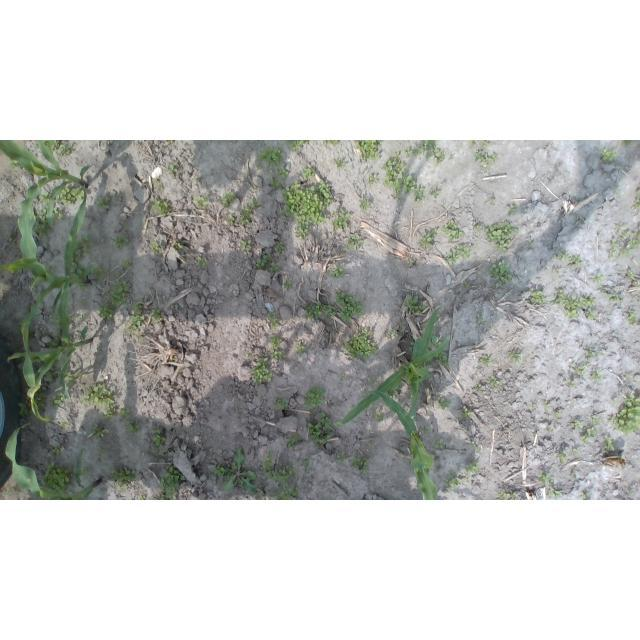Maize: (0, 184, 94, 421), (333, 306, 452, 427), (9, 280, 94, 425), (1, 140, 90, 265), (367, 388, 440, 501), (6, 423, 102, 500)
Weeds: (282, 180, 334, 227), (213, 446, 257, 492), (80, 383, 115, 422), (610, 394, 640, 437), (344, 327, 378, 361), (381, 151, 404, 197), (40, 462, 73, 494), (485, 221, 519, 252), (158, 465, 187, 500), (71, 237, 95, 278), (336, 291, 365, 324), (306, 412, 334, 446), (552, 289, 581, 319), (124, 304, 146, 341), (416, 140, 445, 165), (238, 197, 263, 226), (304, 300, 337, 320), (488, 261, 512, 288), (354, 140, 383, 162), (106, 281, 130, 307), (257, 146, 283, 170), (250, 357, 272, 385), (33, 206, 50, 242), (109, 469, 136, 491), (443, 244, 471, 265), (56, 185, 85, 205), (265, 466, 295, 485), (441, 220, 464, 243), (475, 150, 498, 173), (304, 387, 326, 410), (150, 428, 167, 456), (404, 293, 426, 314), (620, 234, 640, 257), (270, 336, 287, 361), (350, 454, 370, 475), (275, 484, 300, 500), (419, 228, 437, 248), (333, 208, 351, 228), (446, 471, 463, 492), (34, 389, 48, 413), (401, 170, 415, 194), (528, 287, 546, 305), (345, 235, 363, 252), (17, 400, 33, 418), (152, 198, 168, 216), (602, 289, 622, 303), (220, 190, 236, 207), (98, 304, 114, 320), (51, 392, 66, 408), (608, 238, 620, 258), (256, 253, 271, 269), (436, 394, 451, 410), (284, 140, 304, 152), (95, 194, 109, 211), (115, 236, 129, 253), (94, 268, 109, 283), (615, 224, 629, 240), (287, 435, 304, 448), (581, 295, 598, 308), (272, 397, 289, 410), (124, 422, 138, 437), (90, 423, 104, 438), (581, 429, 595, 444), (428, 335, 442, 350), (120, 406, 133, 422), (603, 435, 616, 451), (601, 148, 617, 161), (435, 351, 448, 367), (50, 332, 63, 348), (414, 186, 426, 203), (465, 462, 479, 476), (508, 350, 522, 364), (459, 405, 472, 420), (268, 312, 279, 329), (56, 144, 70, 157), (584, 308, 598, 321), (66, 371, 79, 385), (585, 349, 596, 365), (264, 451, 273, 470), (570, 255, 583, 268), (296, 227, 309, 240), (300, 455, 312, 469), (195, 195, 209, 207), (331, 266, 345, 278), (496, 492, 516, 500), (38, 192, 50, 205), (195, 256, 208, 268), (166, 163, 179, 175), (304, 168, 316, 181), (7, 156, 18, 170), (547, 489, 561, 500), (592, 368, 603, 382), (359, 197, 369, 212), (506, 204, 518, 216), (268, 176, 280, 188), (53, 208, 64, 221), (151, 309, 162, 322), (255, 488, 266, 501), (575, 365, 586, 378), (489, 376, 500, 389), (554, 251, 568, 261), (627, 310, 637, 324), (388, 326, 405, 334), (45, 141, 60, 150), (539, 475, 551, 486), (77, 280, 88, 292), (471, 441, 482, 453), (278, 166, 288, 179), (121, 257, 132, 268), (335, 158, 346, 169), (590, 415, 601, 426), (7, 233, 17, 245), (594, 273, 605, 283), (60, 419, 71, 429), (294, 343, 304, 354), (337, 454, 347, 465), (241, 241, 252, 251), (368, 174, 378, 185), (153, 178, 163, 189), (47, 371, 57, 382), (581, 491, 593, 500), (269, 263, 281, 272), (480, 356, 492, 365), (51, 447, 61, 457), (283, 279, 293, 289), (571, 419, 581, 429), (435, 440, 445, 450), (80, 467, 89, 478), (277, 241, 286, 252), (559, 453, 568, 464), (406, 342, 414, 354), (95, 449, 105, 458), (45, 266, 55, 275), (389, 390, 399, 399), (321, 140, 339, 145), (152, 242, 161, 252), (626, 268, 634, 279), (375, 411, 383, 422), (431, 189, 440, 198), (227, 215, 235, 225), (22, 422, 33, 429), (634, 199, 640, 211), (404, 148, 412, 157), (174, 242, 184, 249), (475, 317, 485, 324), (482, 140, 490, 148), (572, 449, 580, 457), (475, 384, 483, 392), (554, 412, 563, 419), (568, 380, 575, 389), (623, 140, 633, 145), (371, 380, 379, 386), (68, 316, 73, 325), (339, 375, 345, 382), (408, 260, 414, 267), (476, 224, 483, 230), (415, 364, 423, 369), (528, 243, 534, 249), (423, 427, 429, 433), (140, 495, 147, 500), (553, 270, 560, 275), (632, 281, 639, 286), (491, 199, 496, 206), (530, 404, 536, 409), (572, 471, 577, 477), (546, 428, 552, 433), (464, 283, 469, 289), (470, 140, 476, 145), (613, 189, 619, 194), (79, 316, 84, 321), (168, 140, 173, 145), (323, 496, 328, 501), (234, 414, 240, 418), (370, 444, 374, 449), (636, 189, 640, 194), (408, 393, 412, 398), (248, 352, 252, 356)
